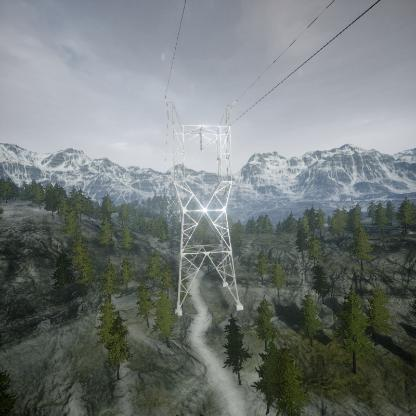tower: (161, 95, 246, 319)
